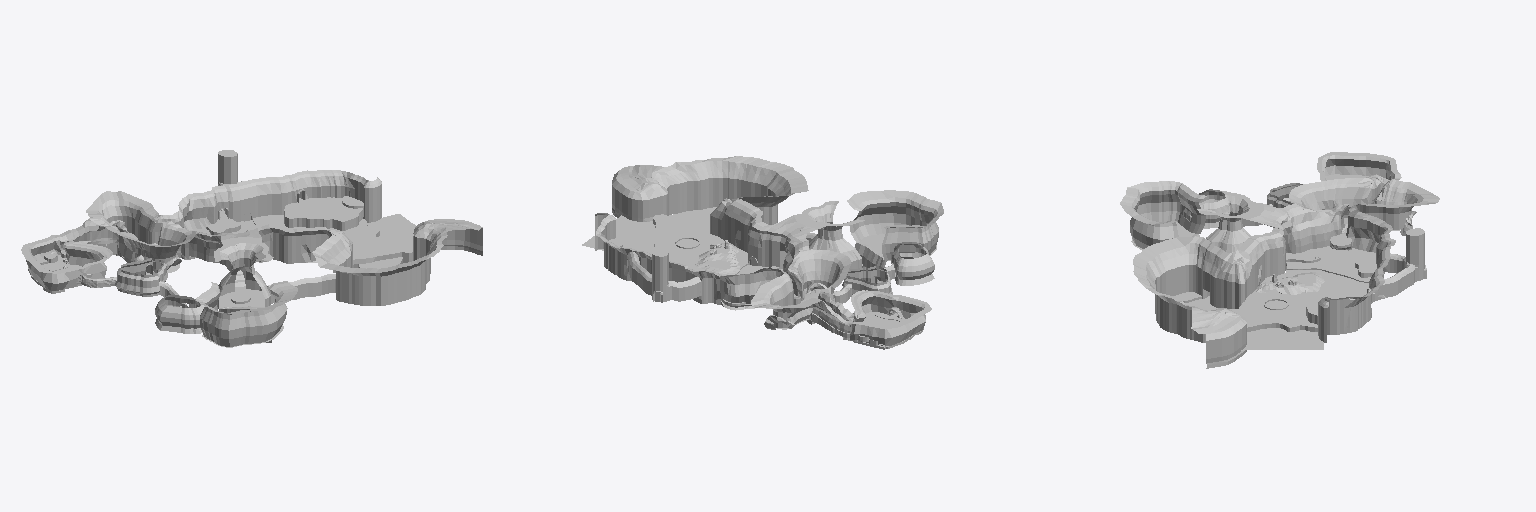
The model's file is test_terrain_02.1.obj.
3 views of the same model, side by side, from view 1: azimuth 30°, elevation 25°; view 2: azimuth 150°, elevation 25°; view 3: azimuth 270°, elevation 25° (orthographic).
Visible parts, largest first — view 1: Lower_Ground_2A.001_Grid.025, Lower_Ground_3.001_Grid.036, BigGround_Grid.024, Island_5C_Grid.017, Cave_3_Grid.050, Cave_1B.001_Grid.026, BigGround.001_Grid.029, Secret_Tunnel_1A.001_Grid.028, Island_5_Tunnel_Grid.022; view 2: Lower_Ground_2A.001_Grid.025, Lower_Ground_3.001_Grid.036, BigGround_Grid.024, Island_5_Tunnel_Grid.022, Cave_3_Grid.050, Cave_1B.001_Grid.026, Hill_1_Grid.019, BigGround.001_Grid.029, Lower_Ground_3.002_Grid.041; view 3: Lower_Ground_2A.001_Grid.025, BigGround_Grid.024, Lower_Ground_3.001_Grid.036, Island_5_Tunnel_Grid.022, BigGround.001_Grid.029, Hill_1_Grid.019, Cave_3_Grid.050, Island_5C_Grid.017.
Boxes of the visible parts, <box> form: Lower_Ground_2A.001_Grid.025: <box>21,170,482,308</box>; Lower_Ground_3.001_Grid.036: <box>196,281,297,346</box>; BigGround_Grid.024: <box>190,215,412,312</box>; Island_5C_Grid.017: <box>284,197,363,230</box>; Cave_3_Grid.050: <box>155,295,204,333</box>; Cave_1B.001_Grid.026: <box>115,258,167,296</box>; BigGround.001_Grid.029: <box>368,214,443,246</box>; Secret_Tunnel_1A.001_Grid.028: <box>267,274,335,303</box>; Island_5_Tunnel_Grid.022: <box>218,150,302,217</box>; Lower_Ground_2A.001_Grid.025: <box>595,156,931,345</box>; Lower_Ground_3.001_Grid.036: <box>847,190,943,261</box>; BigGround_Grid.024: <box>634,214,862,304</box>; Island_5_Tunnel_Grid.022: <box>627,248,701,301</box>; Cave_3_Grid.050: <box>891,242,934,285</box>; Cave_1B.001_Grid.026: <box>842,266,892,294</box>; Hill_1_Grid.019: <box>692,243,739,274</box>; BigGround.001_Grid.029: <box>582,215,654,250</box>; Lower_Ground_3.002_Grid.041: <box>855,234,936,267</box>; Lower_Ground_2A.001_Grid.025: <box>1133,152,1439,368</box>; BigGround_Grid.024: <box>1237,246,1370,331</box>; Lower_Ground_3.001_Grid.036: <box>1120,181,1206,248</box>; Island_5_Tunnel_Grid.022: <box>1372,228,1424,300</box>; BigGround.001_Grid.029: <box>1241,328,1323,350</box>; Hill_1_Grid.019: <box>1254,272,1324,294</box>; Cave_3_Grid.050: <box>1183,189,1229,228</box>; Island_5C_Grid.017: <box>1306,286,1369,329</box>.
Bounding box in the file's own units: 175 × 38 × 127.